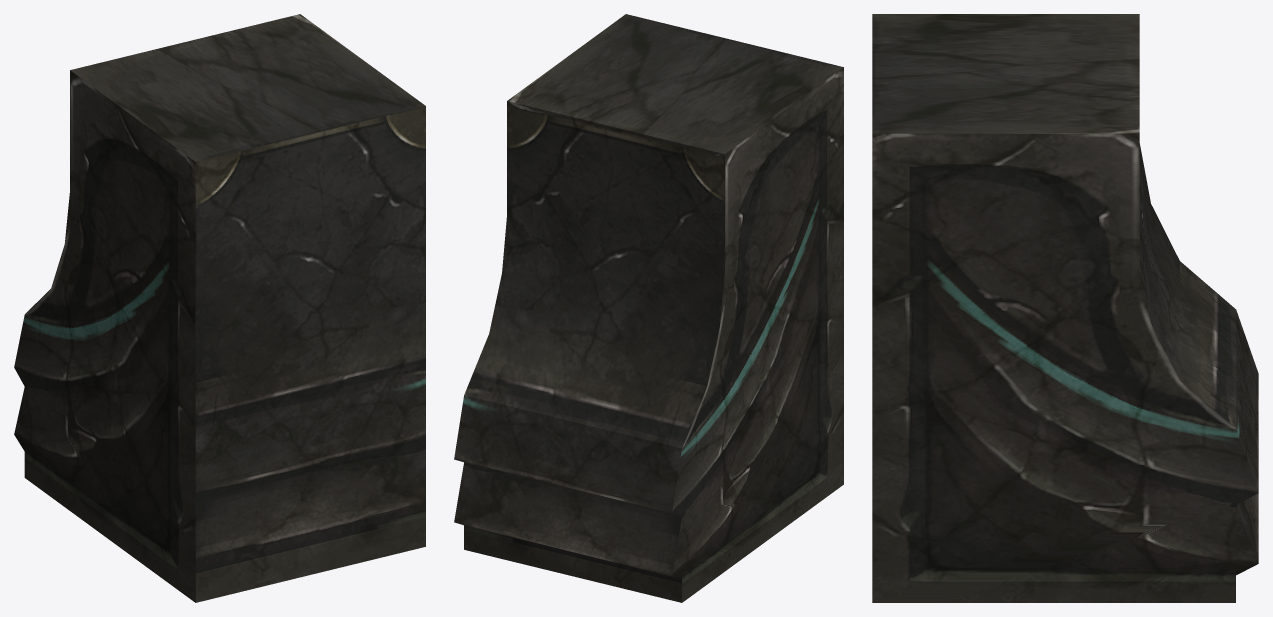
The model's file is pillar_a.FBX.
3 renders of one model, left to right at view 1: azimuth 30°, elevation 25°; view 2: azimuth 150°, elevation 25°; view 3: azimuth 270°, elevation 25°, orthographic. The views are drawn at different scales.
Parts seen in each view (by area): view 1: pillar_a; view 2: pillar_a; view 3: pillar_a.
Boxes of the visible parts, x1=… form: pillar_a: x1=14, y1=14, x2=425, y2=602; pillar_a: x1=454, y1=14, x2=843, y2=602; pillar_a: x1=872, y1=14, x2=1258, y2=602.
Bounding box in the file's own units: 0.7105 × 1.3 × 0.9704.
Materials: 1 (1 with a texture image).
